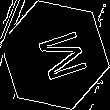M_W: (24, 25, 86, 85)
